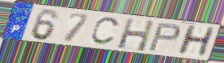6: (29, 8, 61, 42)
7: (61, 12, 90, 43)
C: (88, 17, 122, 47)
H: (116, 17, 157, 53), (175, 24, 218, 57)
P: (147, 22, 183, 53)
